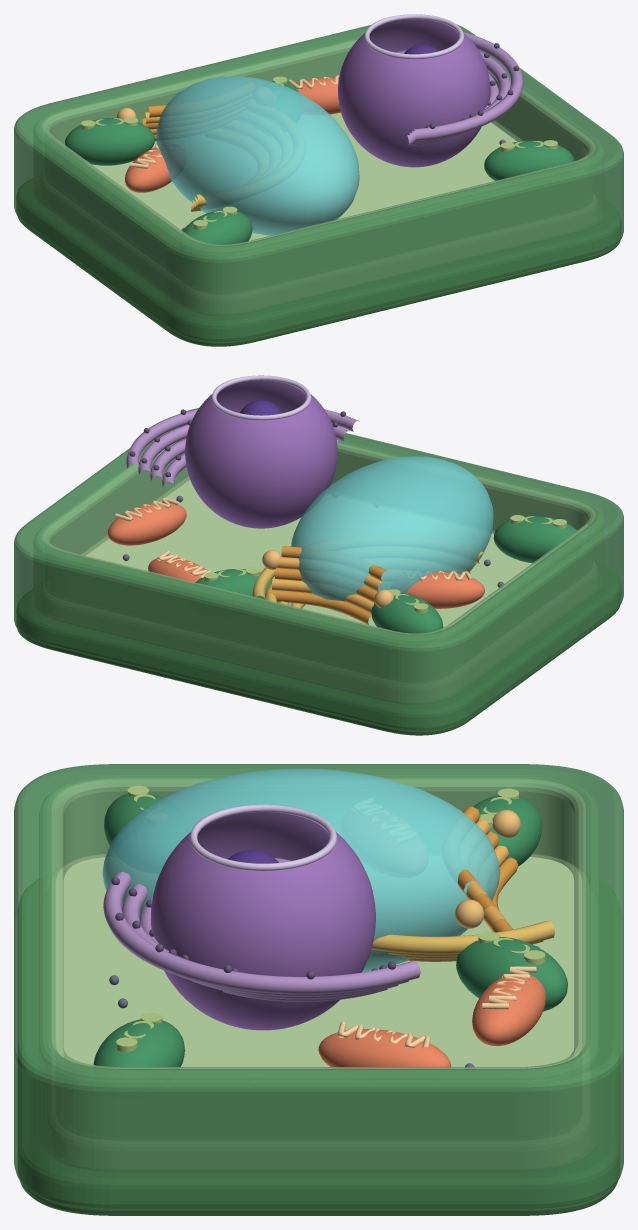
File: plant-cells.glb
The picture shows the model from 3 angles, top to bottom: view 1: azimuth 30°, elevation 25°; view 2: azimuth 150°, elevation 25°; view 3: azimuth 270°, elevation 25°; orthographic projection. The views are drawn at different scales.
Visible parts, largest first — view 1: 植物细胞 · 细胞壁, 植物细胞 · 细胞膜, 植物细胞 · 中央液泡, 植物细胞 · 细胞核, 植物细胞 · 细胞质, 植物细胞 · 叶绿体, 植物细胞 · 粗面内质网, 植物细胞 · 线粒体, 植物细胞 · 高尔基体; view 2: 植物细胞 · 细胞壁, 植物细胞 · 细胞膜, 植物细胞 · 中央液泡, 植物细胞 · 细胞核, 植物细胞 · 细胞质, 植物细胞 · 叶绿体, 植物细胞 · 线粒体, 植物细胞 · 高尔基体, 植物细胞 · 粗面内质网, 植物细胞 · 光面内质网, 植物细胞 · 核仁; view 3: 植物细胞 · 细胞壁, 植物细胞 · 细胞膜, 植物细胞 · 细胞质, 植物细胞 · 细胞核, 植物细胞 · 中央液泡, 植物细胞 · 叶绿体, 植物细胞 · 粗面内质网, 植物细胞 · 线粒体, 植物细胞 · 高尔基体, 植物细胞 · 光面内质网.
Part boxes in pixels (left/top/right/bottom): 植物细胞 · 细胞壁: left=14, top=24, right=623, bottom=346; 植物细胞 · 细胞膜: left=33, top=37, right=604, bottom=315; 植物细胞 · 中央液泡: left=156, top=76, right=359, bottom=235; 植物细胞 · 细胞核: left=338, top=14, right=490, bottom=167; 植物细胞 · 细胞质: left=91, top=112, right=521, bottom=240; 植物细胞 · 叶绿体: left=65, top=76, right=574, bottom=244; 植物细胞 · 粗面内质网: left=407, top=32, right=523, bottom=146; 植物细胞 · 线粒体: left=125, top=75, right=340, bottom=192; 植物细胞 · 高尔基体: left=116, top=104, right=166, bottom=140; 植物细胞 · 细胞壁: left=14, top=408, right=623, bottom=735; 植物细胞 · 细胞膜: left=33, top=438, right=604, bottom=704; 植物细胞 · 中央液泡: left=291, top=456, right=493, bottom=612; 植物细胞 · 细胞核: left=185, top=375, right=337, bottom=528; 植物细胞 · 细胞质: left=82, top=476, right=532, bottom=627; 植物细胞 · 叶绿体: left=195, top=515, right=576, bottom=633; 植物细胞 · 线粒体: left=107, top=497, right=484, bottom=608; 植物细胞 · 高尔基体: left=262, top=546, right=393, bottom=624; 植物细胞 · 粗面内质网: left=126, top=409, right=359, bottom=486; 植物细胞 · 光面内质网: left=252, top=551, right=485, bottom=608; 植物细胞 · 核仁: left=240, top=400, right=281, bottom=415; 植物细胞 · 细胞壁: left=14, top=764, right=623, bottom=1215; 植物细胞 · 细胞膜: left=39, top=776, right=598, bottom=1171; 植物细胞 · 细胞质: left=55, top=854, right=582, bottom=1066; 植物细胞 · 细胞核: left=150, top=804, right=375, bottom=1030; 植物细胞 · 中央液泡: left=102, top=768, right=500, bottom=972; 植物细胞 · 叶绿体: left=93, top=785, right=567, bottom=1066; 植物细胞 · 粗面内质网: left=103, top=871, right=420, bottom=1001; 植物细胞 · 线粒体: left=318, top=966, right=546, bottom=1066; 植物细胞 · 高尔基体: left=455, top=806, right=520, bottom=932; 植物细胞 · 光面内质网: left=371, top=920, right=555, bottom=961.
Bounding box in the file's own units: 5.22 × 2.11 × 4.17.
